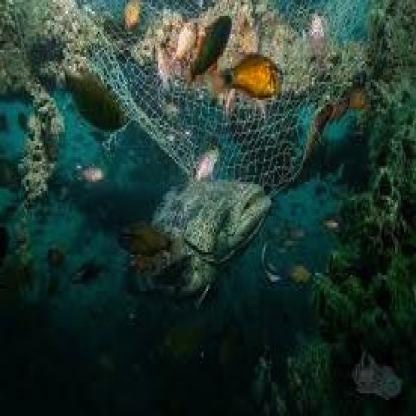net: (92, 2, 344, 184)
